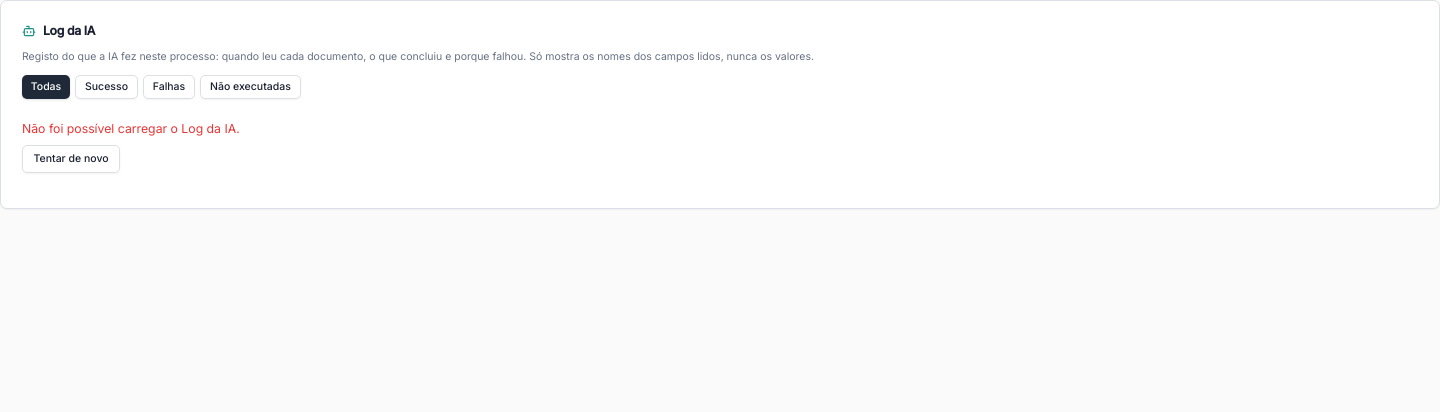
Test case: a timeline › um erro de leitura NÃO se apresenta como «sem acções» e deixa tentar de novo
The width and height of the screenshot is (1440, 412).
expect the message shows "Não foi possível carregar": met, box [22,121,240,136]
Click the button "Tentar de novo".
click(71, 158)  # box [22,144,120,172]
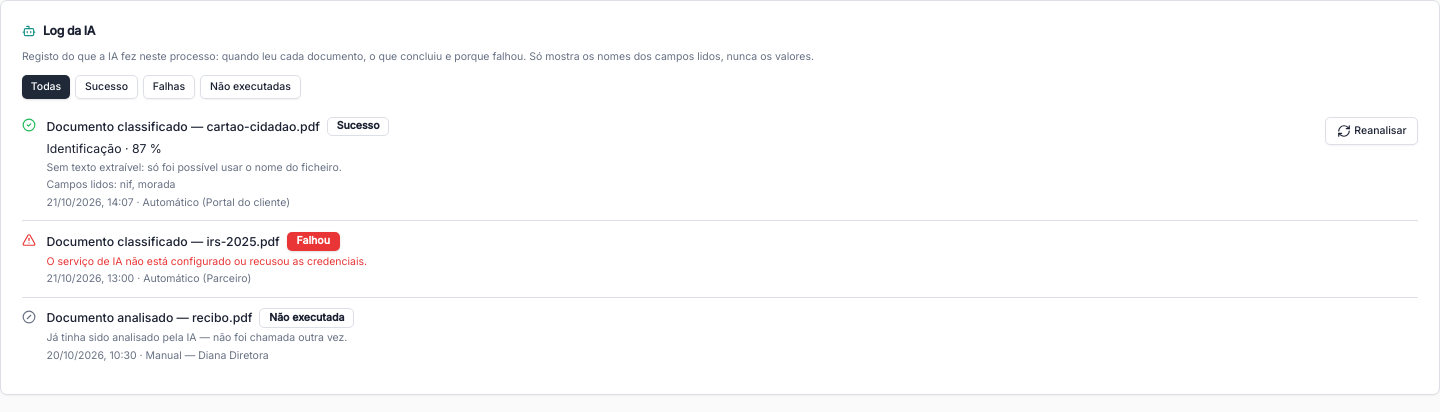
expect the number of list items with test id "linha-do-log" is 3: met, box [22,106,1418,221]; [22,221,1418,298]; [22,308,354,362]
